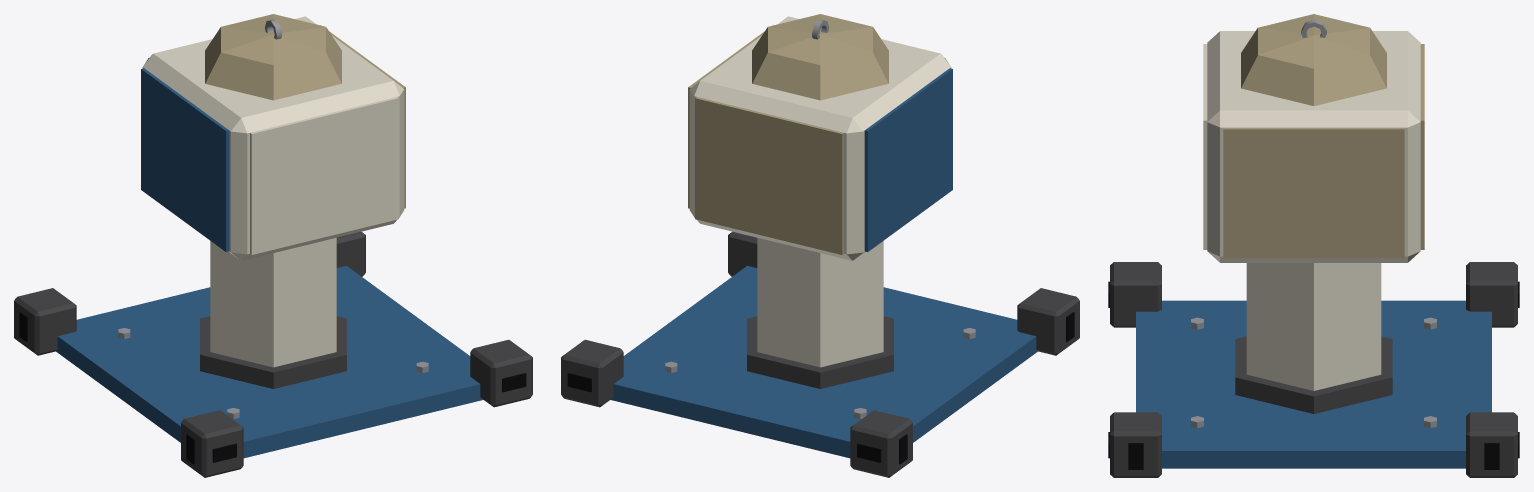
File: rcs4_mount.obj
3 views of the same model, side by side, from view 1: azimuth 30°, elevation 25°; view 2: azimuth 150°, elevation 25°; view 3: azimuth 270°, elevation 25° (orthographic). The views are drawn at different scales.
Parts seen in each view (by area): view 1: rcs4_mount; view 2: rcs4_mount; view 3: rcs4_mount.
Part boxes in pixels (<box>): rcs4_mount: <box>14,14,532,477</box>; rcs4_mount: <box>561,14,1079,477</box>; rcs4_mount: <box>1108,14,1519,477</box>.
Size of the model in its own units: 1.27 by 1.27 by 1.27.
